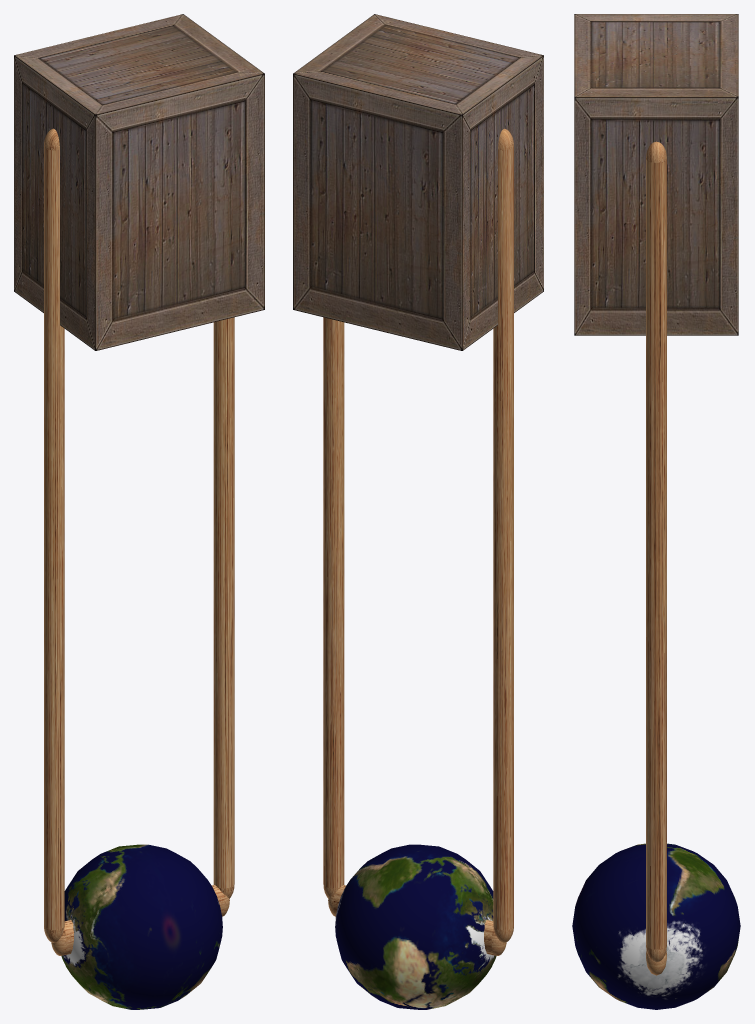
Rendered from unicycle.fbx.
The picture shows the model from 3 angles, left to right: view 1: azimuth 30°, elevation 25°; view 2: azimuth 150°, elevation 25°; view 3: azimuth 270°, elevation 25°; orthographic projection.
Parts seen in each view (by area): view 1: body-rb-box, pole-rb-convexhull-hinge, roller-rb--hinge-sphere; view 2: body-rb-box, pole-rb-convexhull-hinge, roller-rb--hinge-sphere; view 3: body-rb-box, roller-rb--hinge-sphere, pole-rb-convexhull-hinge.
Part boxes in pixels (x1,y1,x2,y2): body-rb-box: [14, 14, 264, 350]; pole-rb-convexhull-hinge: [44, 128, 234, 955]; roller-rb--hinge-sphere: [61, 844, 222, 1009]; body-rb-box: [293, 14, 543, 350]; pole-rb-convexhull-hinge: [323, 128, 513, 955]; roller-rb--hinge-sphere: [335, 844, 496, 1009]; body-rb-box: [574, 14, 738, 335]; roller-rb--hinge-sphere: [572, 843, 740, 1009]; pole-rb-convexhull-hinge: [646, 141, 666, 975].
Bounding box in the file's own units: 78.01 × 60 × 372.
3 materials, 3 textured.
